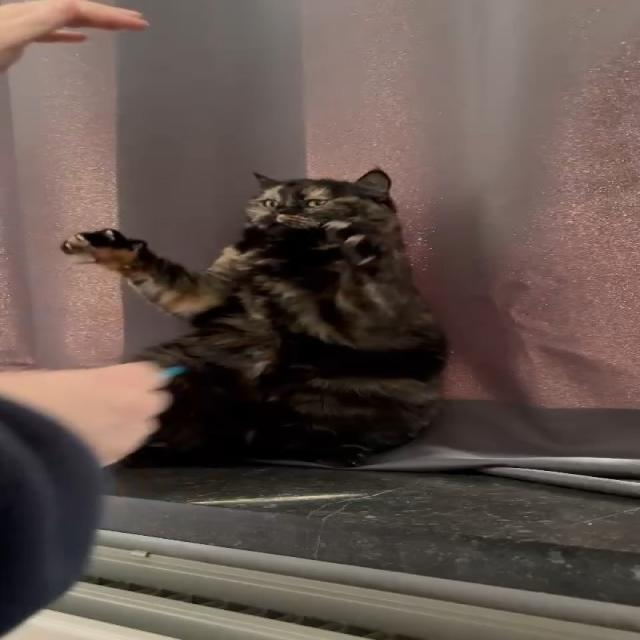authorized: (60, 166, 451, 468)
